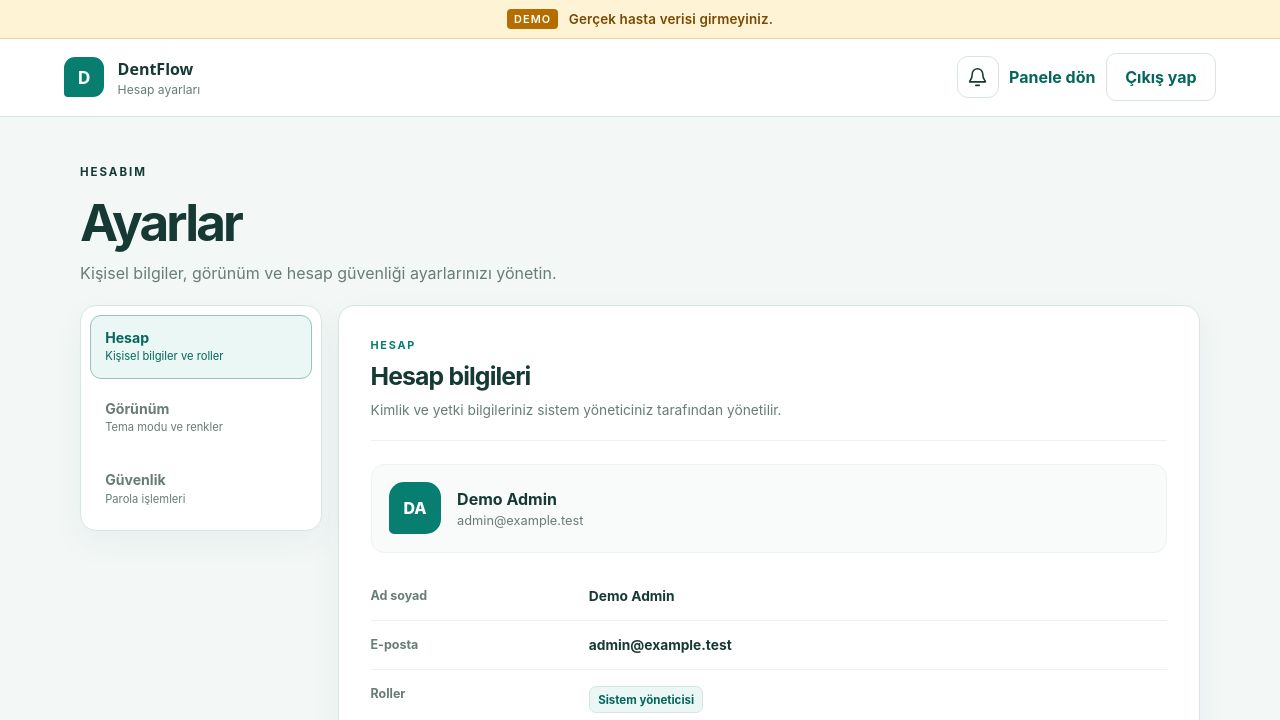
Test case: hesap ekranları › hesap, görünüm ve güvenlik bölümleri arasında geçiş yapar
Expected: the heading "Hesap bilgileri" is shown, [370,361,530,391]
Click the button "Görünüm Tema modu ve renkler". click: (201, 418)
box: [90,386,312,450]
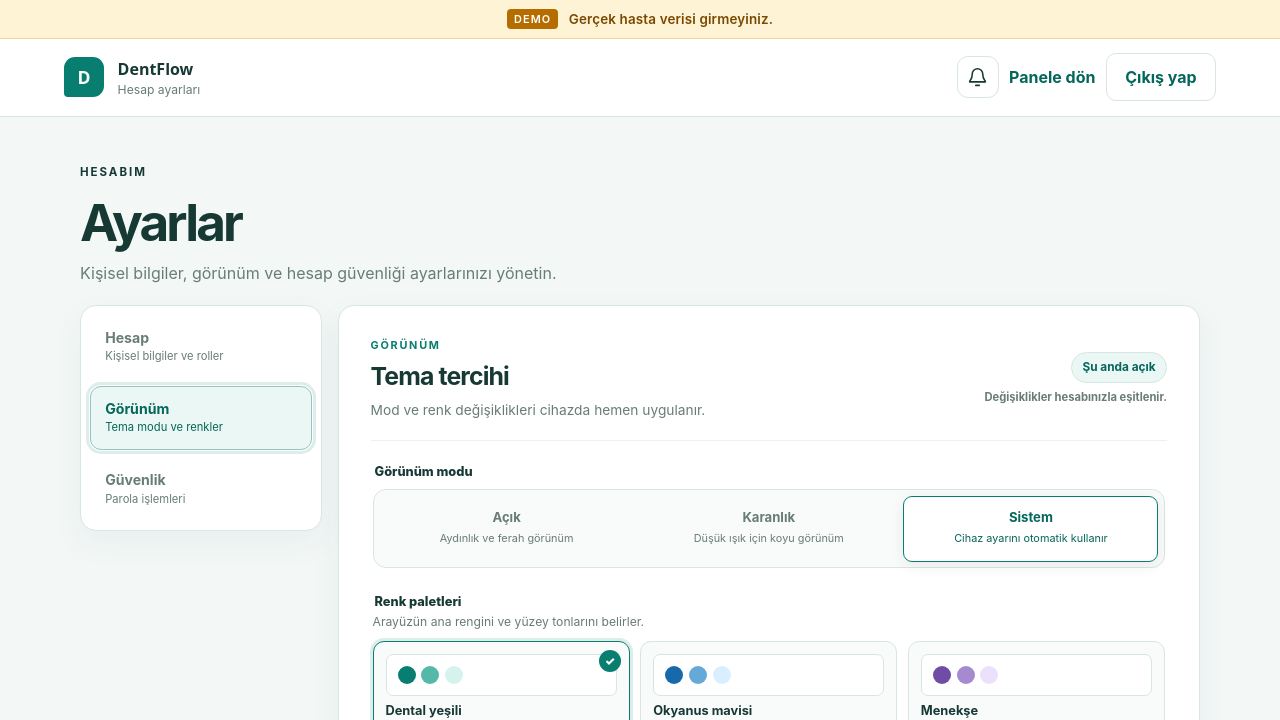
Now the heading "Tema tercihi" is shown, box [370,361,509,391]
Click the button "Güvenlik Parola işlemleri". click: (201, 489)
box: [90,457,312,521]
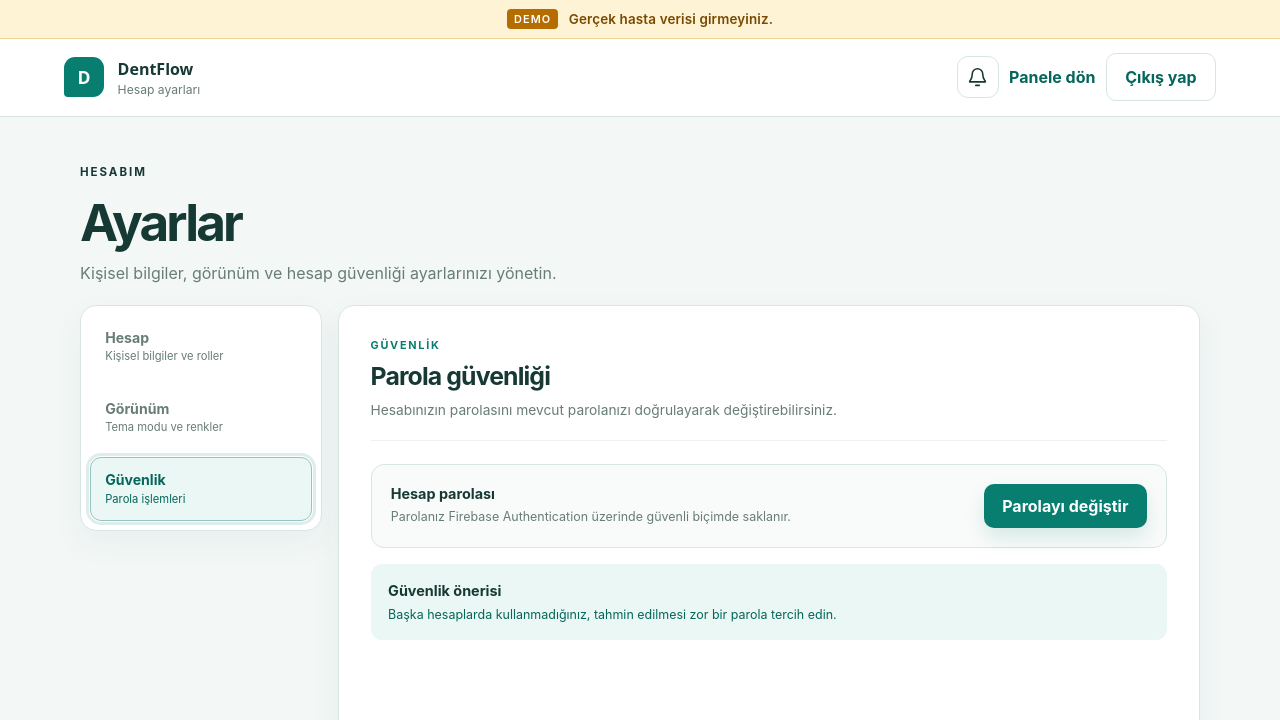
Now the heading "Parola güvenliği" is shown, box [370,361,550,391]
